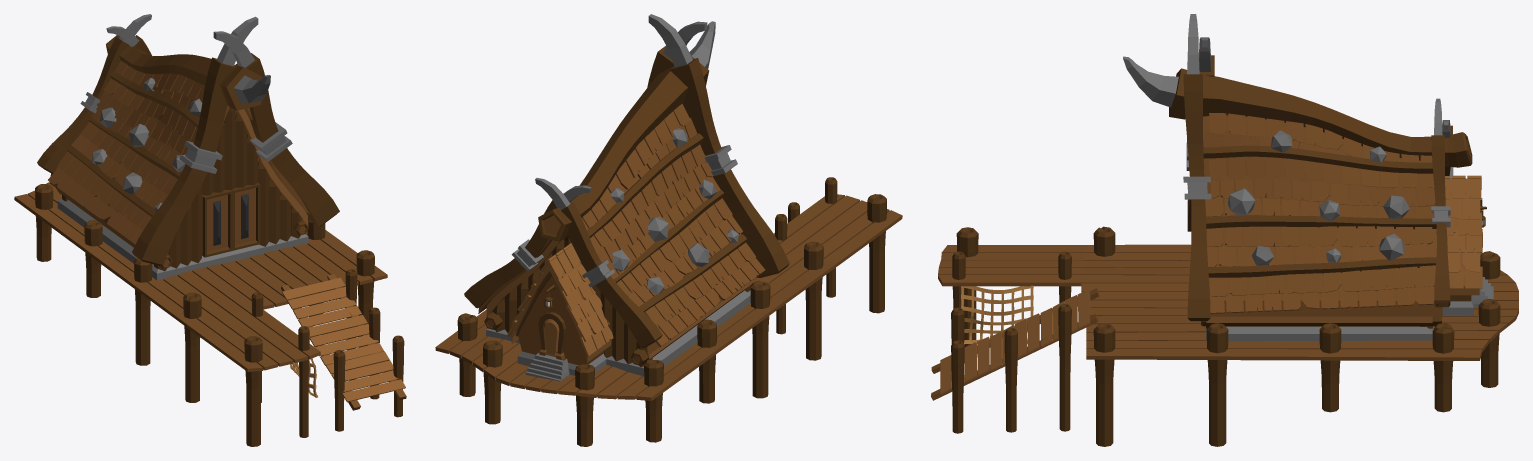
The model's file is A_BoatHouse.fbx.
3 views of the same model, side by side, from view 1: azimuth 30°, elevation 25°; view 2: azimuth 150°, elevation 25°; view 3: azimuth 270°, elevation 25° (orthographic). The views are drawn at different scales.
Visible parts, largest first — view 1: A_BoatHouse; view 2: A_BoatHouse; view 3: A_BoatHouse.
Boxes of the visible parts, left/top/right/bottom form: A_BoatHouse: left=14, top=14, right=406, bottom=446; A_BoatHouse: left=435, top=14, right=902, bottom=446; A_BoatHouse: left=931, top=14, right=1518, bottom=446.
Size of the model in its own units: 656 by 1018 by 1455.
